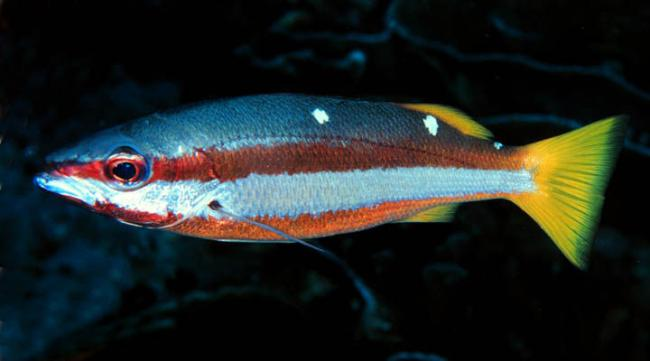fish: (34, 94, 623, 271)
